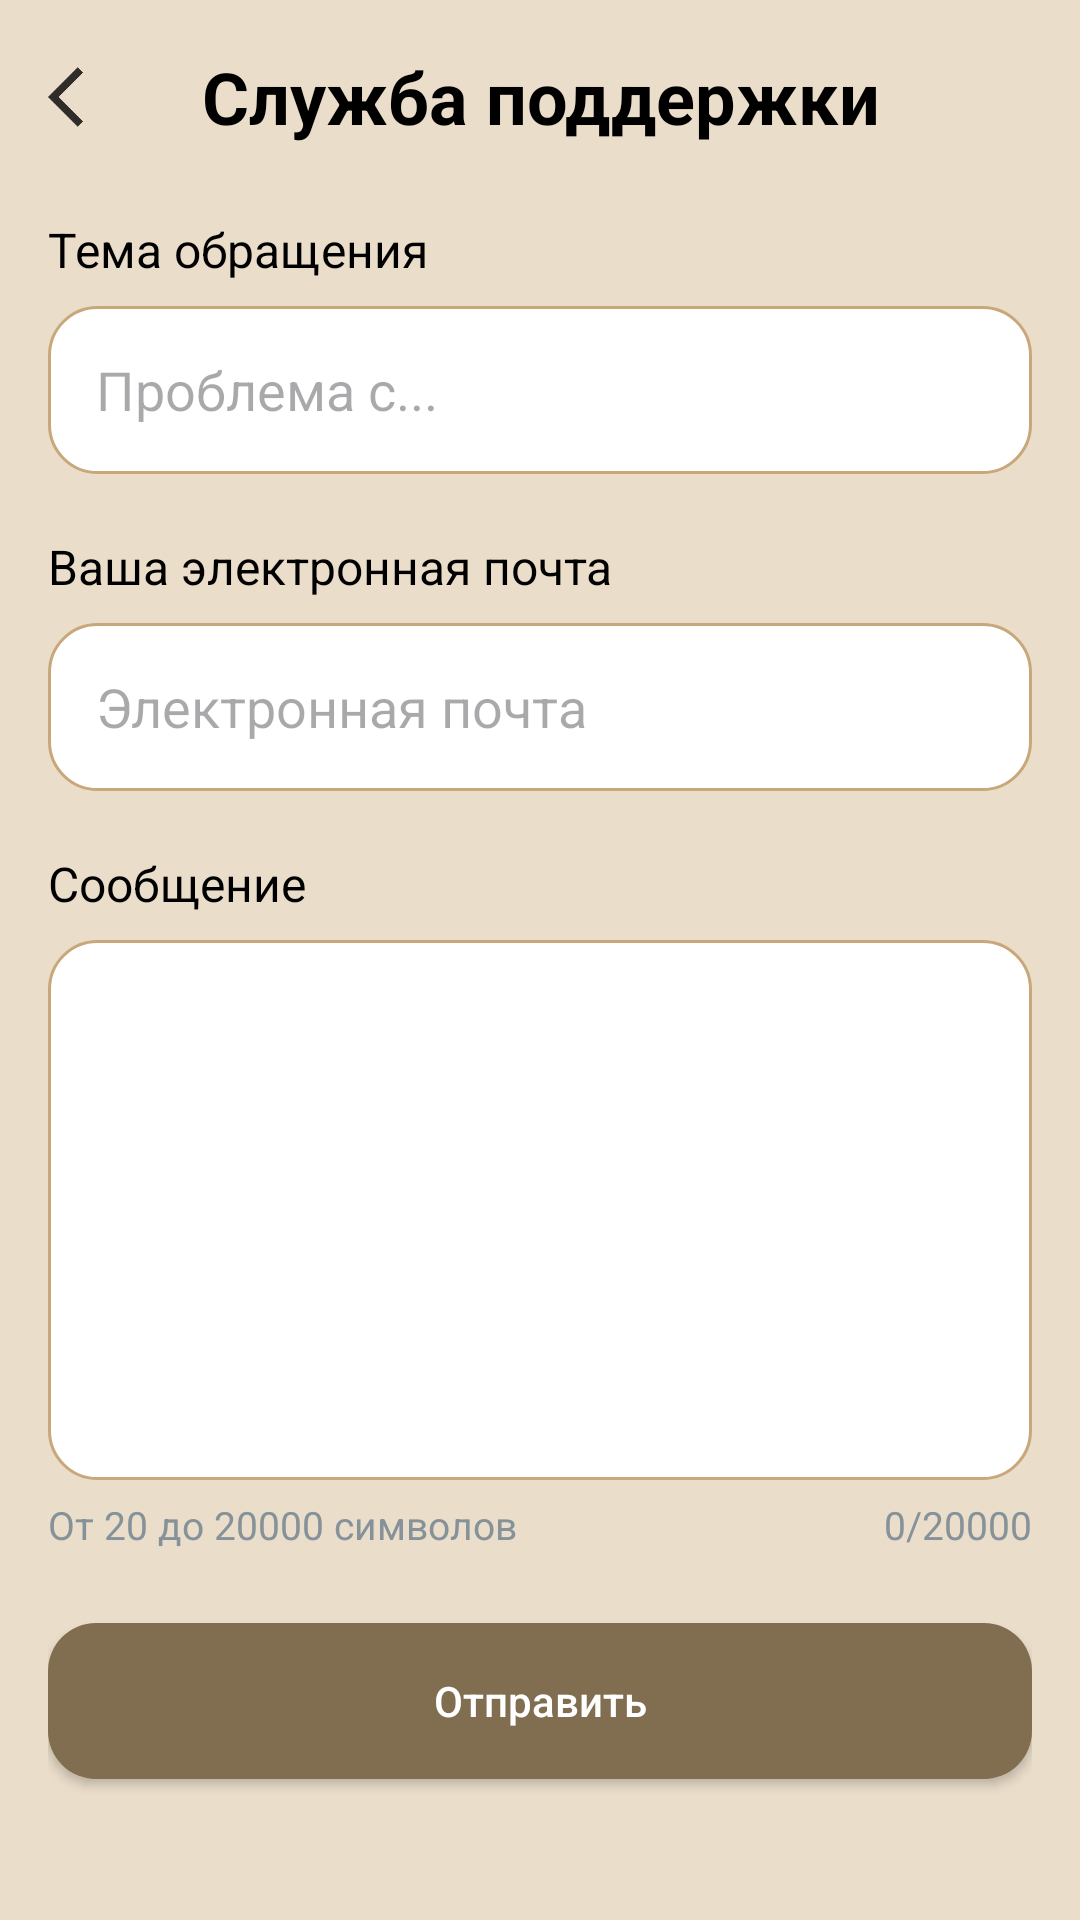

Icon click points for this 1080 × 1920 phone screenshot, format (x=x, y=y):
Назад: (x=65, y=97)
